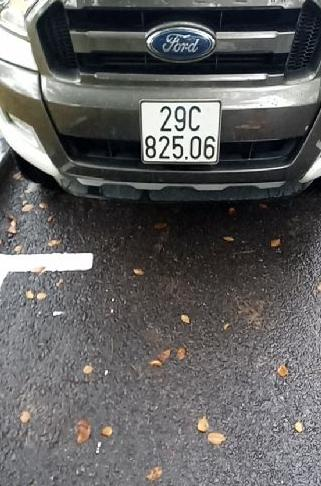Plate-iWeP: (140, 96, 224, 165)
